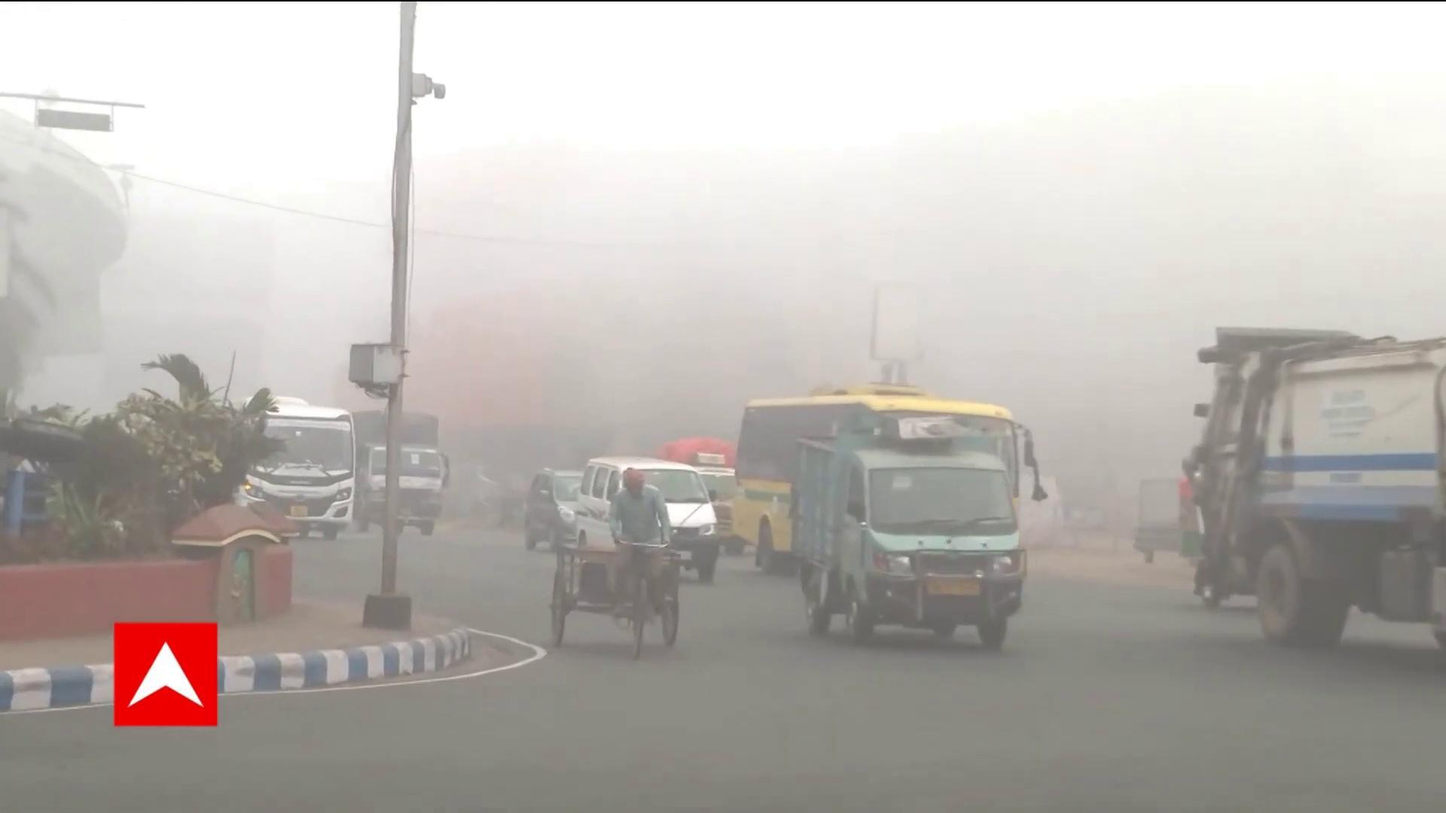Bus: (744, 382, 1038, 608), (235, 388, 360, 538)
Car: (572, 452, 723, 581)
Truck: (1182, 317, 1446, 656), (785, 437, 1031, 654), (362, 398, 444, 532)
